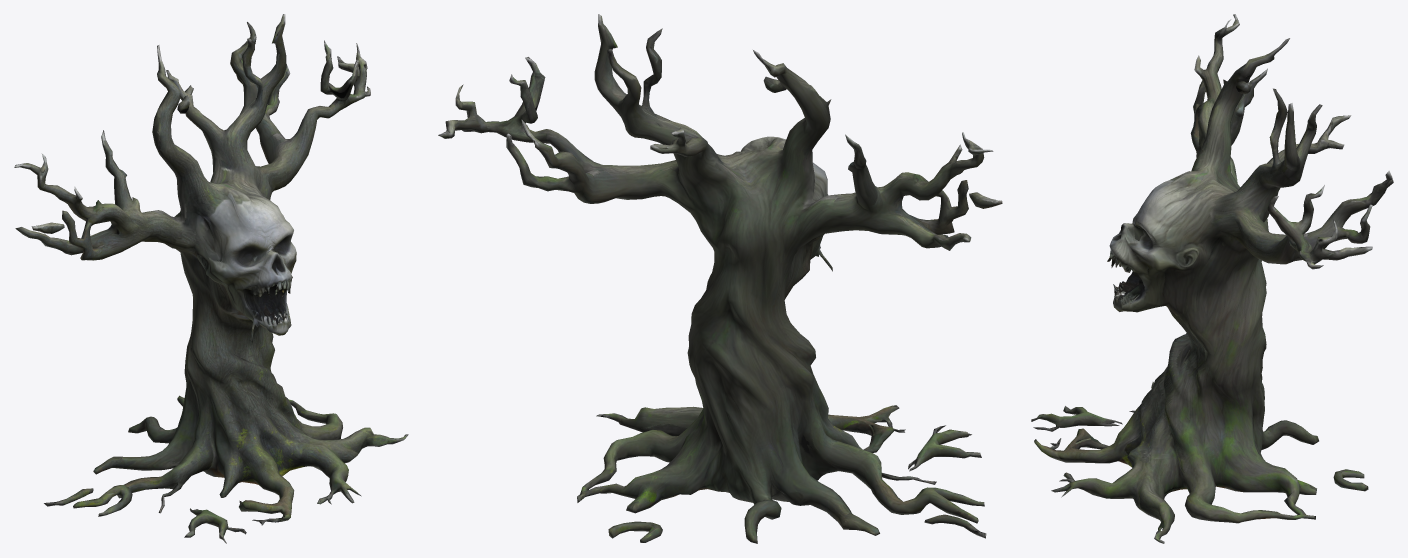
File: RiddleTree_reduced.glb
The picture shows the model from 3 angles, left to right: view 1: azimuth 30°, elevation 25°; view 2: azimuth 150°, elevation 25°; view 3: azimuth 270°, elevation 25°; orthographic projection. The views are drawn at different scales.
Parts seen in each view (by area): view 1: Mesh_0; view 2: Mesh_0; view 3: Mesh_0.
Boxes of the visible parts, x1=… form: Mesh_0: x1=14, y1=14, x2=408, y2=543; Mesh_0: x1=438, y1=14, x2=1002, y2=543; Mesh_0: x1=1031, y1=14, x2=1393, y2=543.
Bounding box in the file's own units: 1.95 × 1.85 × 1.46.
Materials: 1 (1 with a texture image).
